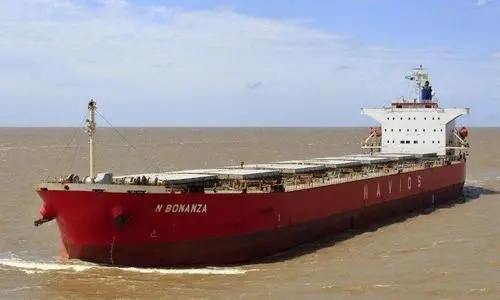Cargoship: (22, 64, 474, 261)
